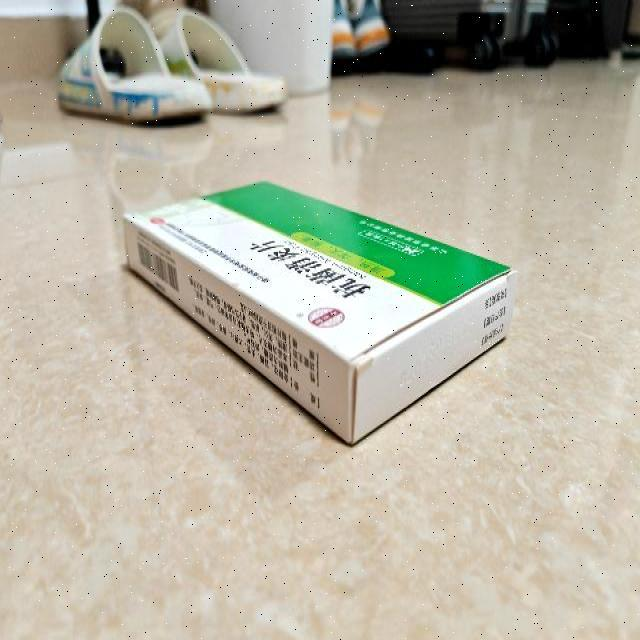box: (123, 180, 513, 447)
